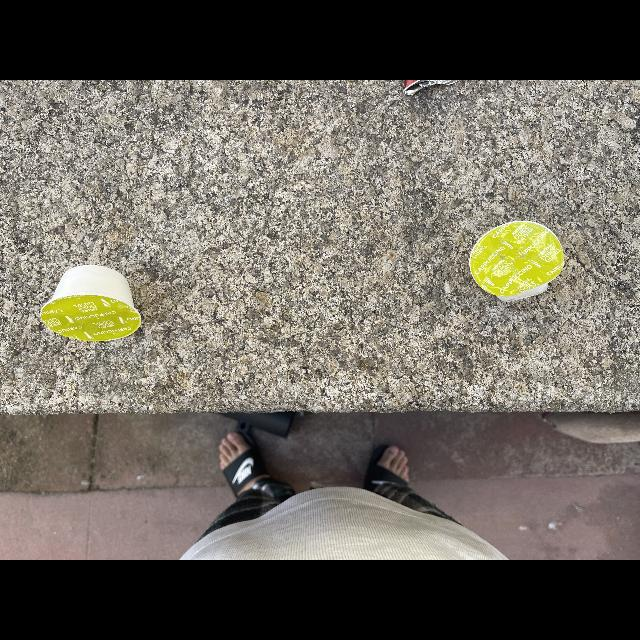damaged_capsule: (462, 213, 580, 311)
intact_capsule: (30, 258, 164, 350)
